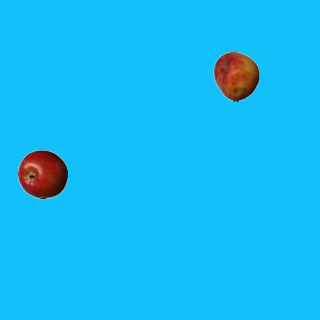Apple Braeburn: (17, 149, 67, 199)
Peach: (211, 51, 261, 101)
